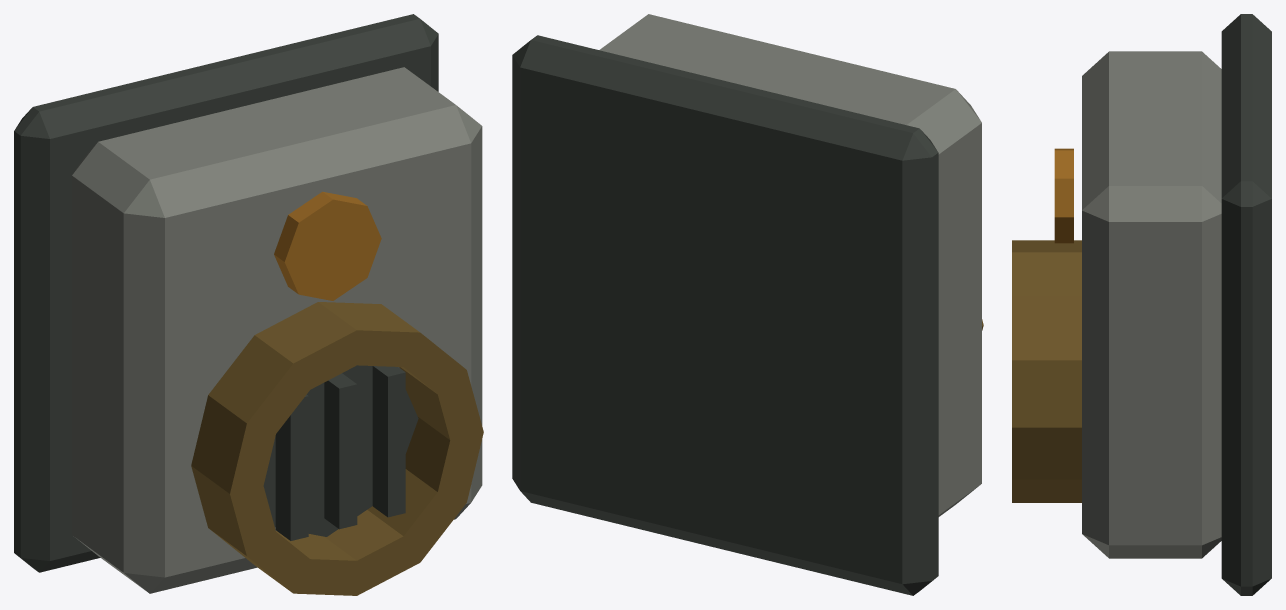
Rendered from oxygen_pump.obj.
The picture shows the model from 3 angles, left to right: view 1: azimuth 30°, elevation 25°; view 2: azimuth 150°, elevation 25°; view 3: azimuth 270°, elevation 25°; orthographic projection. The views are drawn at different scales.
Parts seen in each view (by area): view 1: oxygen_pump; view 2: oxygen_pump; view 3: oxygen_pump.
Part boxes in pixels (box(x1,y1,x2,y2)): oxygen_pump: box(14, 14, 483, 595); oxygen_pump: box(512, 14, 983, 595); oxygen_pump: box(1012, 14, 1271, 595).
Bounding box in the file's own units: 0.56 × 0.59 × 0.335.
